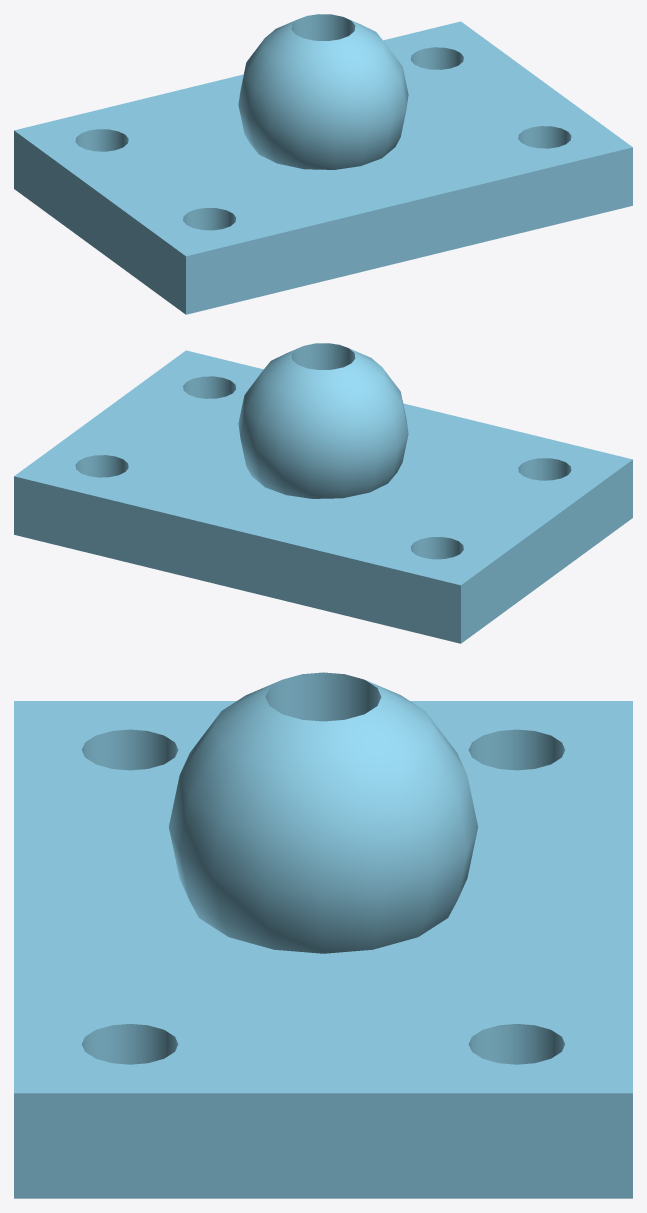
The model's file is boolean_mount_chord_0p5_angle_30.glb.
3 renders of one model, top to bottom at view 1: azimuth 30°, elevation 25°; view 2: azimuth 150°, elevation 25°; view 3: azimuth 270°, elevation 25°, orthographic. The views are drawn at different scales.
Parts seen in each view (by area): view 1: boolean_mount; view 2: boolean_mount; view 3: boolean_mount.
Part boxes in pixels (box(x1,y1,x2,y2)): boolean_mount: box(14, 14, 632, 314); boolean_mount: box(14, 343, 632, 643); boolean_mount: box(14, 672, 632, 1198).
Bounding box in the file's own units: 48 × 17.42 × 32.
